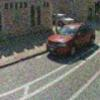cars: (48, 23, 95, 55)
